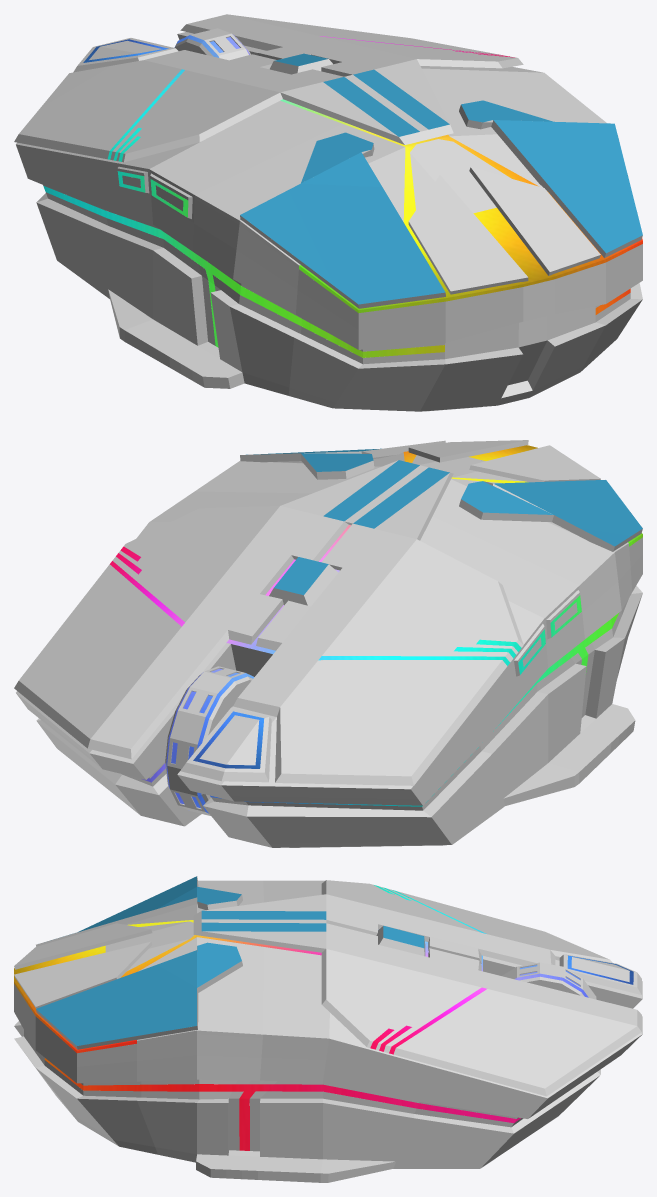
The model's file is mause.glb.
3 renders of one model, top to bottom at view 1: azimuth 30°, elevation 25°; view 2: azimuth 150°, elevation 25°; view 3: azimuth 270°, elevation 25°, orthographic. The views are drawn at different scales.
Parts seen in each view (by area): view 1: mausePart3, mausePart1, mausePart2; view 2: mausePart1, mausePart3, mausePart2; view 3: mausePart3, mausePart1, mausePart2.
Boxes of the visible parts, bbox=[...] form: mausePart3: bbox=[16, 32, 642, 411]; mausePart1: bbox=[14, 14, 642, 411]; mausePart2: bbox=[43, 34, 642, 357]; mausePart1: bbox=[14, 440, 642, 847]; mausePart3: bbox=[16, 452, 642, 847]; mausePart2: bbox=[110, 445, 642, 813]; mausePart3: bbox=[14, 880, 642, 1182]; mausePart1: bbox=[14, 876, 641, 1096]; mausePart2: bbox=[14, 885, 633, 1150].
Size of the model in its own units: 0.0818 by 0.0362 by 0.1196.
3 materials, 1 textured.
